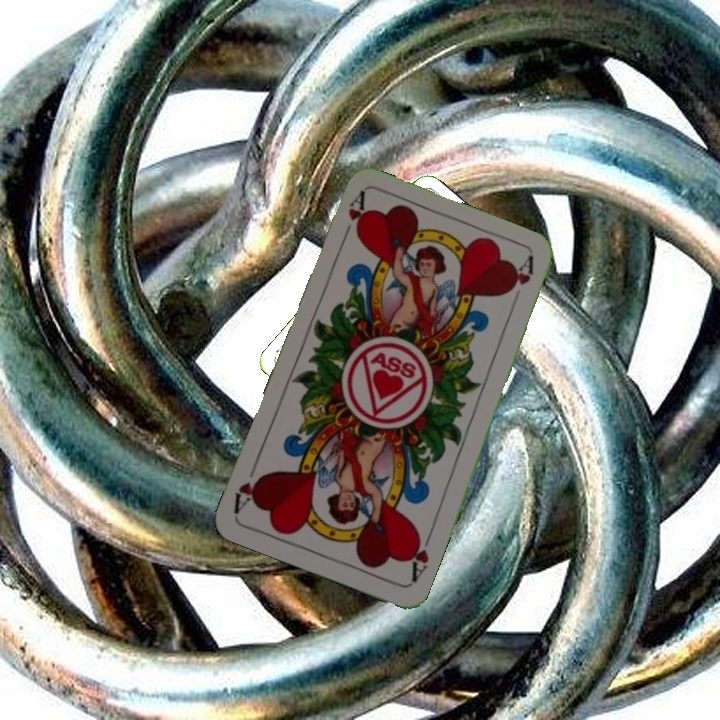HA: (403, 528, 435, 586), (338, 189, 370, 246)
